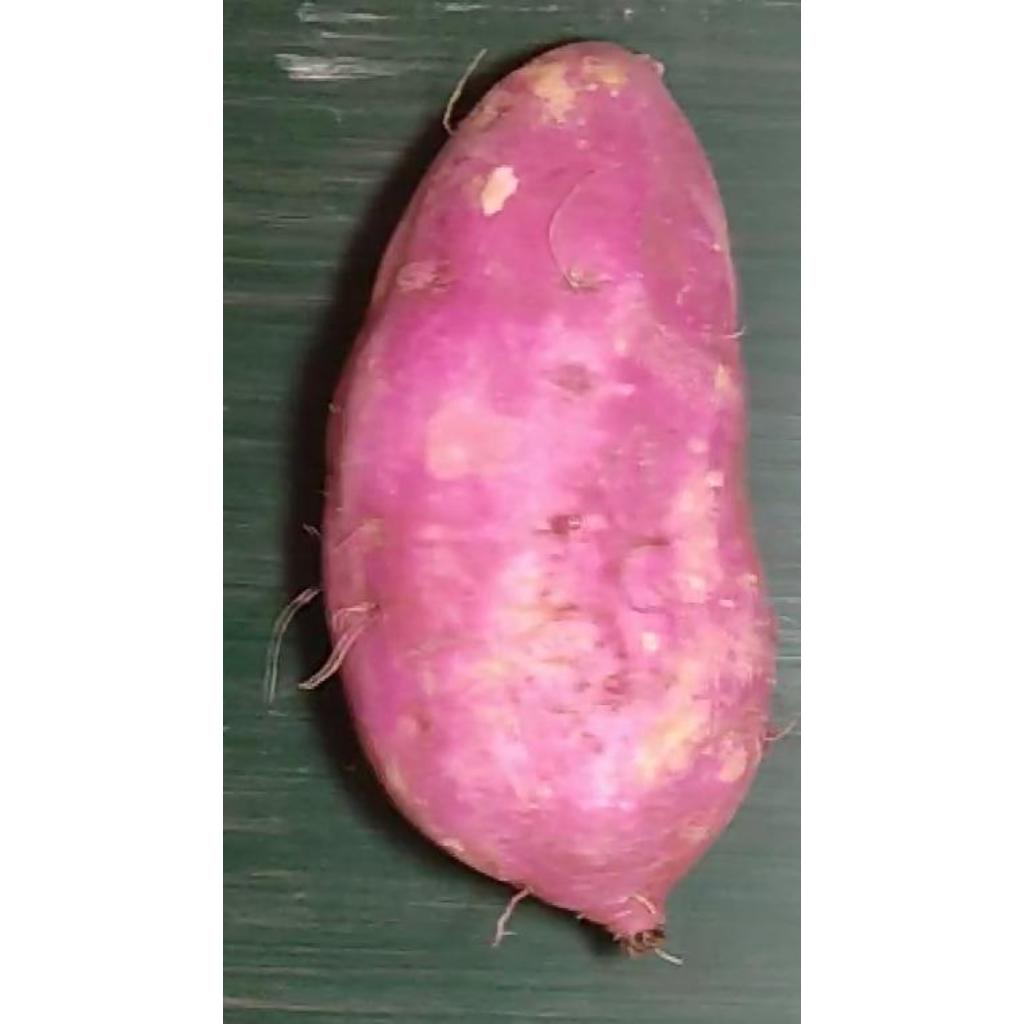Sweet Potato: (314, 41, 780, 958)
